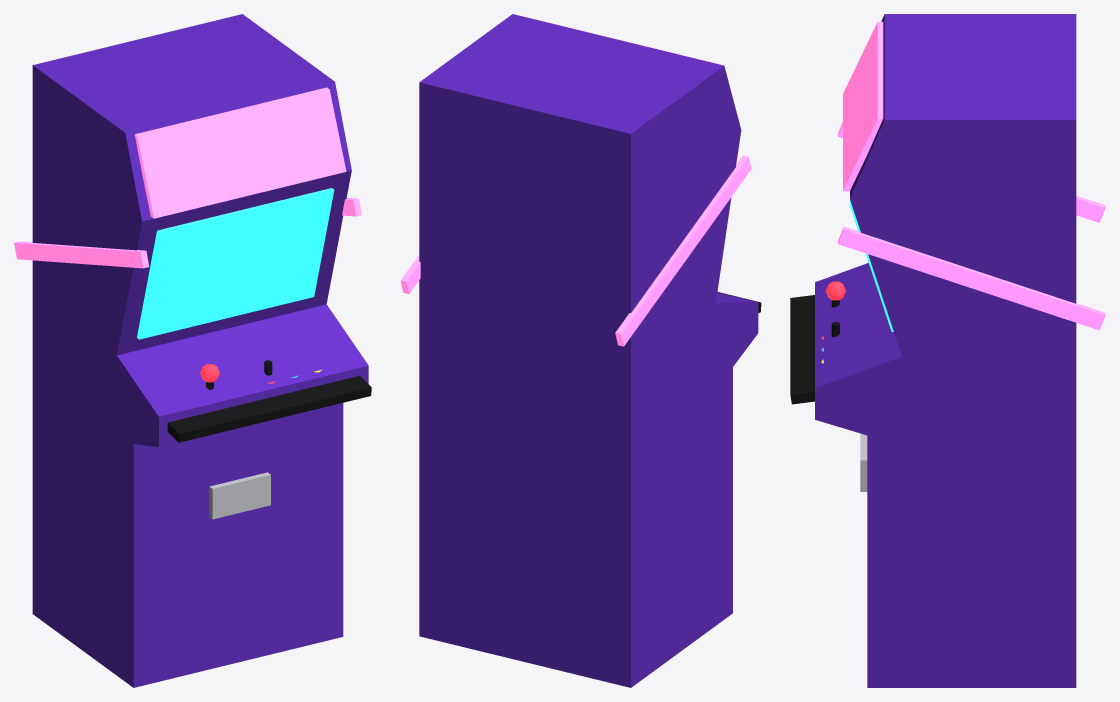
The model's file is arcade_cabinet.glb.
3 renders of one model, left to right at view 1: azimuth 30°, elevation 25°; view 2: azimuth 150°, elevation 25°; view 3: azimuth 270°, elevation 25°, orthographic. The views are drawn at different scales.
Parts seen in each view (by area): view 1: arcade_cabinet; view 2: arcade_cabinet; view 3: arcade_cabinet.
Part boxes in pixels (box(x1,y1,x2,y2)): arcade_cabinet: box(14, 14, 371, 687); arcade_cabinet: box(400, 14, 761, 687); arcade_cabinet: box(790, 14, 1105, 687).
Bounding box in the file's own units: 0.75 × 1.8 × 0.9051.
